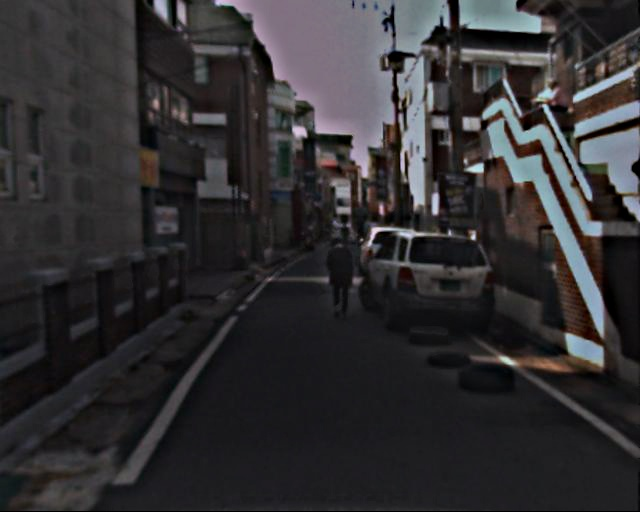person: (321, 235, 357, 323)
